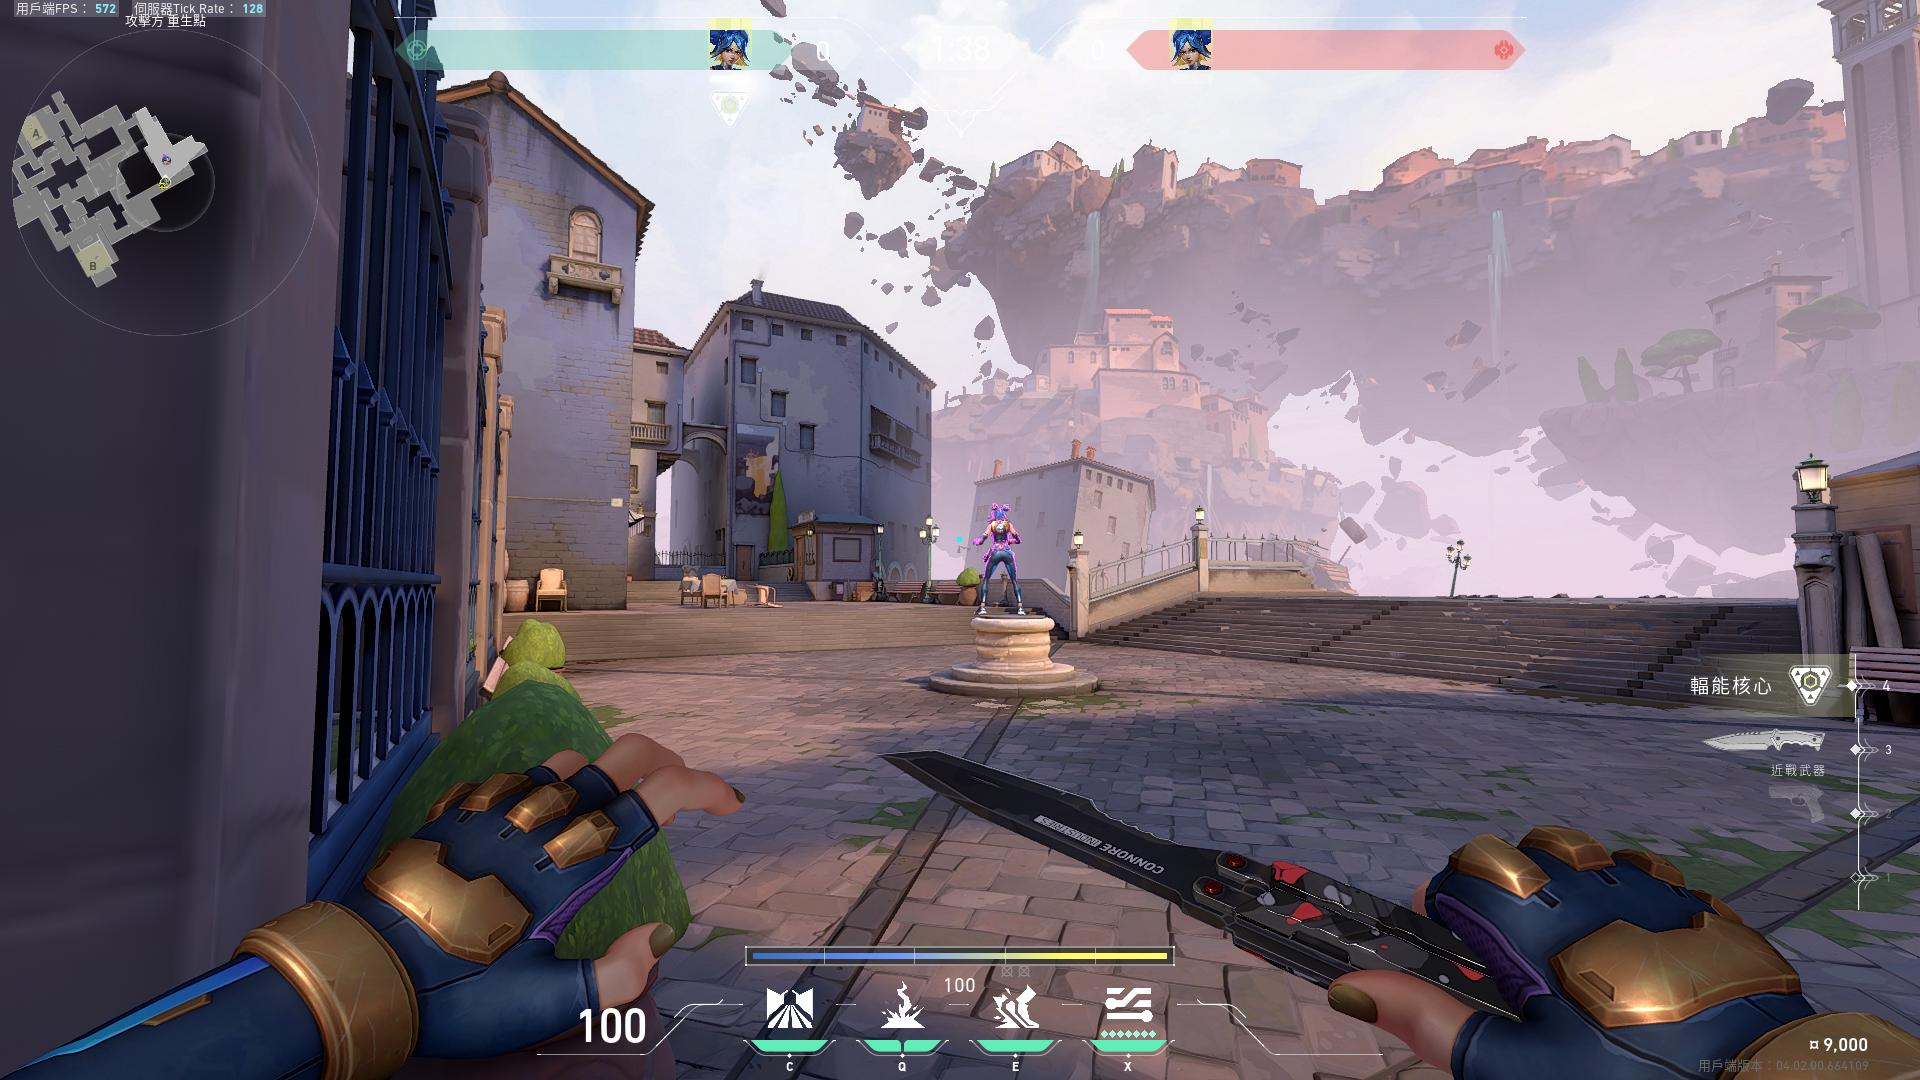enemyBody: (994, 522, 1011, 553)
enemyHead: (993, 510, 1005, 520)
